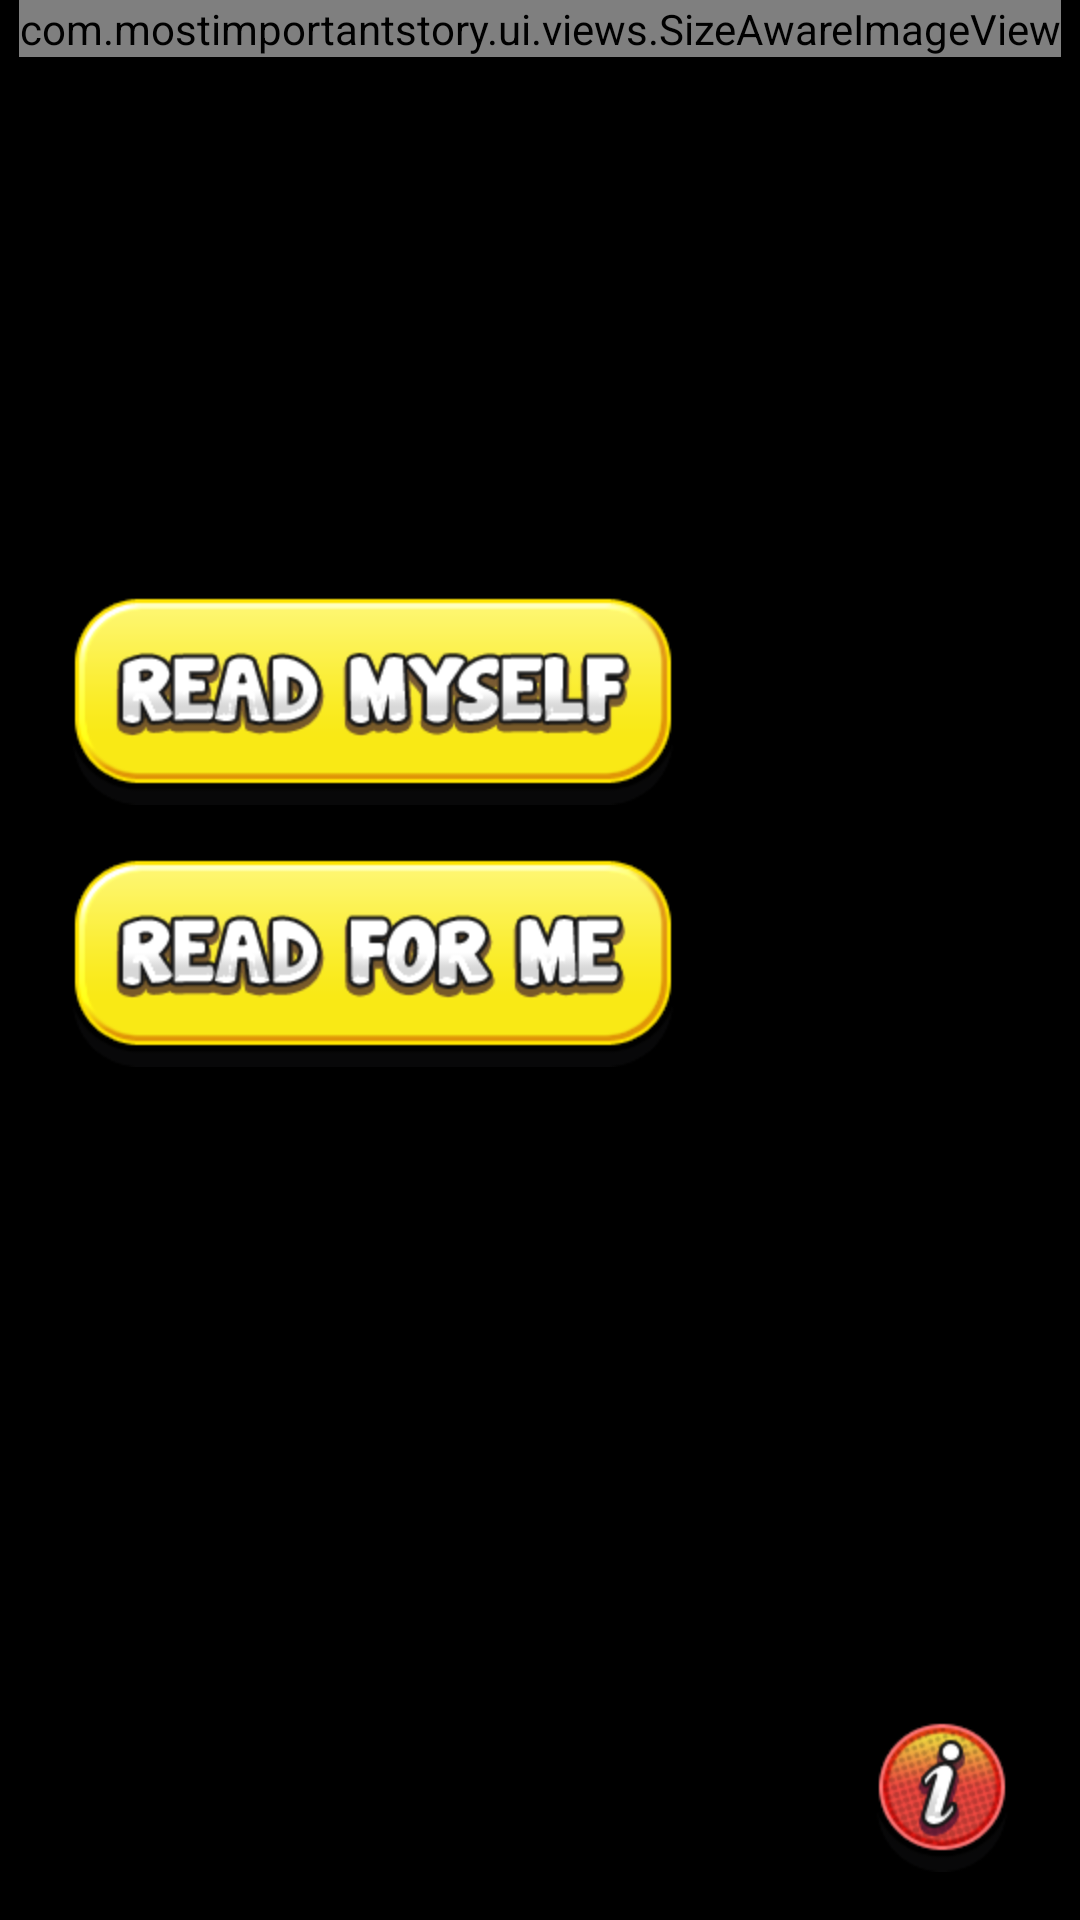

Icons on this 1080×1920 Android screen, each with its box as (x1, y1, x2, y2):
info: (878, 1723, 1006, 1851)
